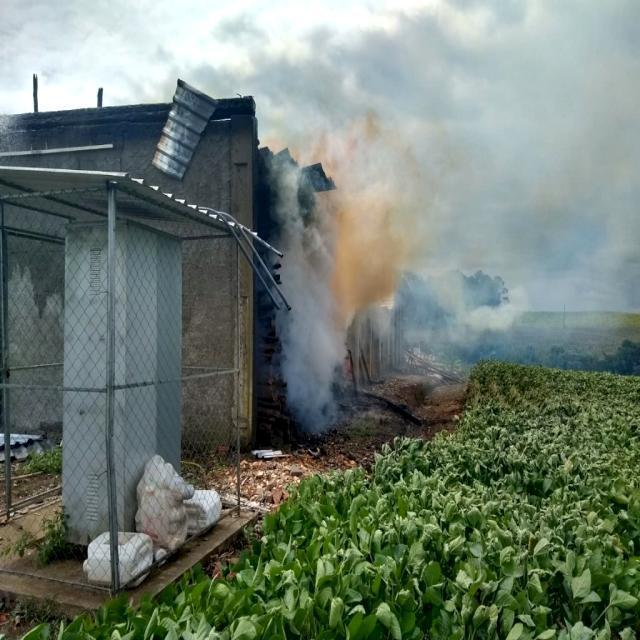Smoke: (275, 0, 640, 430)
